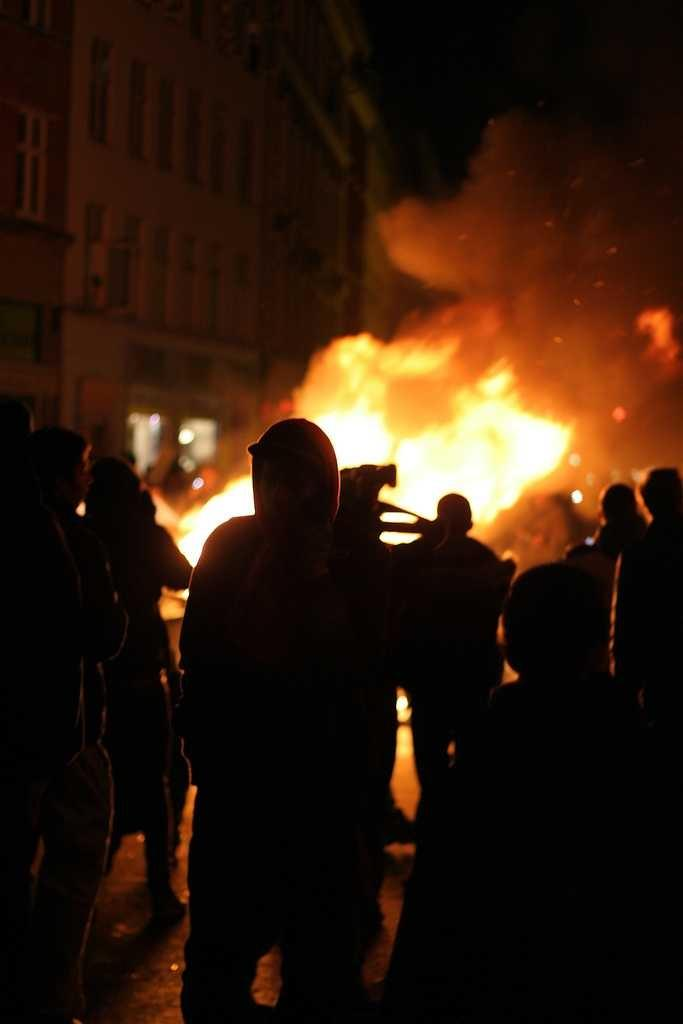fire: (395, 410, 542, 520), (328, 348, 392, 458)
smoke: (428, 132, 662, 340)
